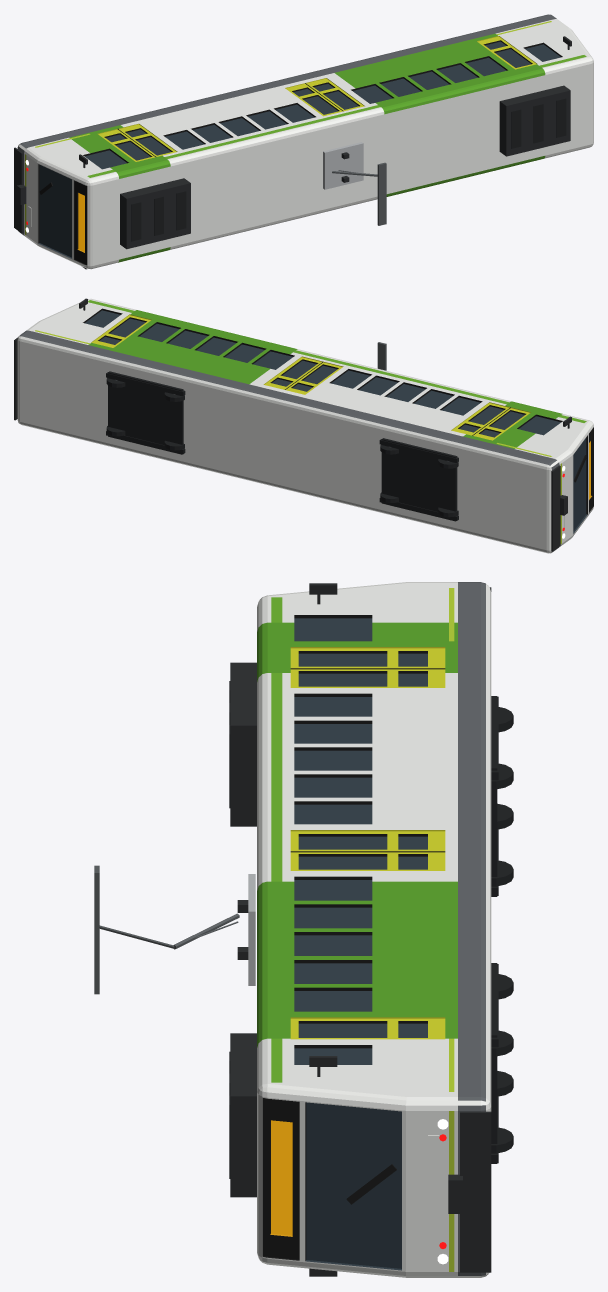
3 views of the same model, one above another, from view 1: azimuth 30°, elevation 25°; view 2: azimuth 150°, elevation 25°; view 3: azimuth 270°, elevation 25° (orthographic). The views are drawn at different scales.
Parts seen in each view (by area): view 1: Z3_body_s0, Z3_roof_ac_025, Z3_roof_ac_029, Z3_pan_base_033, Z3_bumper_005, Z3_pan_head_039, Z3_roof_grille_028, Z3_roof_grille_026, Z3_roof_grille_030, Z3_roof_grille_032, Z3_roof_grille_027, Z3_roof_grille_031; view 2: Z3_body_s0, Z3_bogie_frame_040, Z3_bogie_frame_055, Z3_bumper_005, Z3_bogie_side_063, Z3_bogie_side_048; view 3: Z3_body_s0, Z3_bumper_017, Z3_roof_ac_025, Z3_roof_ac_029, Z3_bogie_frame_040, Z3_bogie_frame_055, Z3_pan_base_033.
Part boxes in pixels (bbox=[...]): Z3_body_s0: bbox=[17, 14, 593, 269]; Z3_roof_ac_025: bbox=[499, 85, 570, 156]; Z3_roof_ac_029: bbox=[120, 178, 190, 249]; Z3_pan_base_033: bbox=[323, 142, 363, 189]; Z3_bumper_005: bbox=[14, 147, 23, 233]; Z3_pan_head_039: bbox=[377, 162, 386, 225]; Z3_roof_grille_028: bbox=[556, 98, 566, 137]; Z3_roof_grille_026: bbox=[511, 109, 521, 148]; Z3_roof_grille_030: bbox=[131, 202, 141, 241]; Z3_roof_grille_032: bbox=[176, 191, 186, 230]; Z3_roof_grille_027: bbox=[533, 104, 543, 143]; Z3_roof_grille_031: bbox=[154, 196, 163, 235]; Z3_body_s0: bbox=[17, 298, 593, 553]; Z3_bogie_frame_040: bbox=[381, 438, 457, 521]; Z3_bogie_frame_055: bbox=[108, 371, 183, 454]; Z3_bumper_005: bbox=[551, 465, 560, 551]; Z3_bogie_side_063: bbox=[106, 372, 185, 396]; Z3_bogie_side_048: bbox=[379, 439, 458, 462]; Z3_body_s0: bbox=[257, 582, 491, 1277]; Z3_bumper_017: bbox=[460, 1111, 491, 1272]; Z3_roof_ac_025: bbox=[230, 1033, 256, 1197]; Z3_roof_ac_029: bbox=[230, 662, 256, 826]; Z3_bogie_frame_040: bbox=[491, 696, 497, 896]; Z3_bogie_frame_055: bbox=[491, 963, 497, 1163]; Z3_pan_base_033: bbox=[248, 874, 255, 985].
Bounding box in the file's own units: 17 × 3.25 × 5.64.
